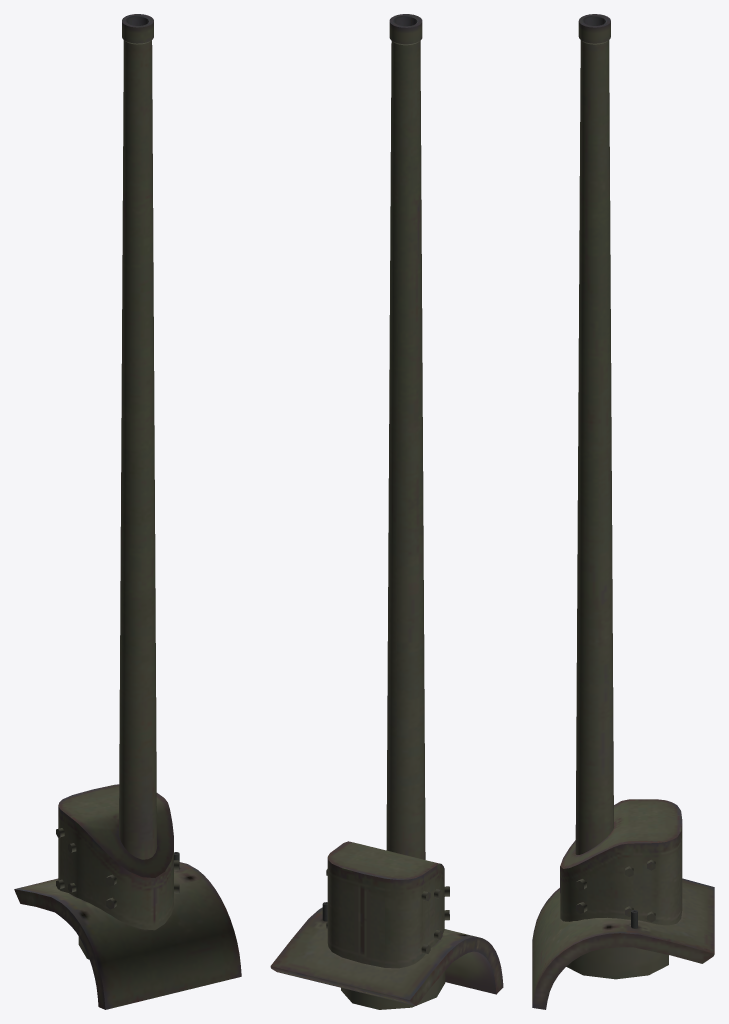
Rendered from Gun_07.glb.
3 renders of one model, left to right at view 1: azimuth 30°, elevation 25°; view 2: azimuth 150°, elevation 25°; view 3: azimuth 270°, elevation 25°, orthographic. The views are drawn at different scales.
Parts seen in each view (by area): view 1: set_0_group_0; view 2: set_0_group_0; view 3: set_0_group_0.
Part boxes in pixels (x1,y1,x2,y2): set_0_group_0: [14, 14, 241, 1009]; set_0_group_0: [270, 14, 503, 1009]; set_0_group_0: [532, 14, 714, 1009].
Bounding box in the file's own units: 0.5457 × 3.64 × 0.6326.
Materials: 1 (1 with a texture image).
